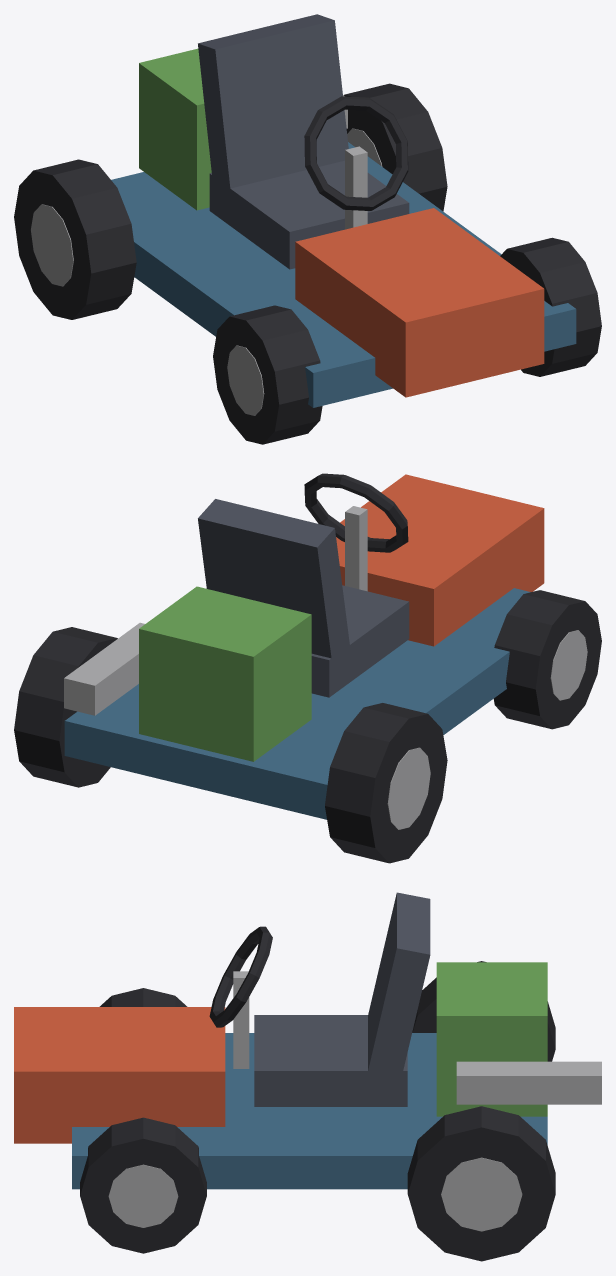
Rendered from kart.glb.
The picture shows the model from 3 angles, top to bottom: view 1: azimuth 30°, elevation 25°; view 2: azimuth 150°, elevation 25°; view 3: azimuth 270°, elevation 25°; orthographic projection. The views are drawn at different scales.
Parts seen in each view (by area): view 1: front_nose, chassis, seat_back, back_right_wheel, front_right_wheel, rear_engine, seat_base, front_left_wheel, back_left_wheel, steering_wheel, Cylinder.002, Cylinder (+1 smaller); view 2: chassis, rear_engine, front_nose, seat_back, back_right_wheel, front_right_wheel, back_left_wheel, seat_base, exhaust, steering_wheel, Cylinder.002, Cylinder (+1 smaller); view 3: front_nose, chassis, back_left_wheel, rear_engine, seat_base, front_left_wheel, seat_back, exhaust, Cylinder.003, Cylinder.001, steering_wheel, back_right_wheel (+2 smaller).
Boxes of the visible parts, box(x1,y1,x2,y2) form: front_nose: box(295, 208, 544, 397); chassis: box(111, 142, 576, 407); seat_back: box(198, 14, 348, 188); back_right_wheel: box(14, 159, 136, 319); front_right_wheel: box(213, 305, 322, 444); rear_engine: box(139, 48, 211, 210); seat_base: box(209, 160, 409, 269); front_left_wheel: box(500, 237, 601, 376); back_left_wheel: box(343, 83, 447, 211); steering_wheel: box(304, 96, 408, 210); Cylinder.002: box(31, 204, 73, 286); Cylinder: box(227, 345, 264, 415); chassis: box(64, 588, 530, 819); rear_engine: box(139, 586, 311, 761); front_nose: box(336, 474, 544, 646); seat_back: box(198, 499, 349, 658); back_right_wheel: box(325, 703, 447, 863); front_right_wheel: box(493, 590, 601, 729); back_left_wheel: box(14, 627, 117, 787); seat_base: box(311, 585, 409, 697); exhaust: box(64, 622, 144, 715); steering_wheel: box(304, 473, 408, 552); Cylinder.002: box(387, 747, 430, 829); Cylinder: box(550, 630, 587, 700); front_nose: box(14, 1007, 225, 1143); chassis: box(72, 1033, 547, 1189); back_left_wheel: box(407, 1106, 555, 1261); rear_engine: box(436, 962, 547, 1116); seat_base: box(254, 1015, 407, 1106); front_left_wheel: box(80, 1117, 206, 1253); seat_back: box(364, 892, 430, 1095); exhaust: box(456, 1061, 601, 1104); Cylinder.003: box(441, 1157, 522, 1231); Cylinder.001: box(108, 1164, 178, 1227); steering_wheel: box(209, 926, 272, 1027); back_right_wheel: box(412, 961, 555, 1061).
Size of the model in its own units: 1.49 by 1.08 by 2.23.
